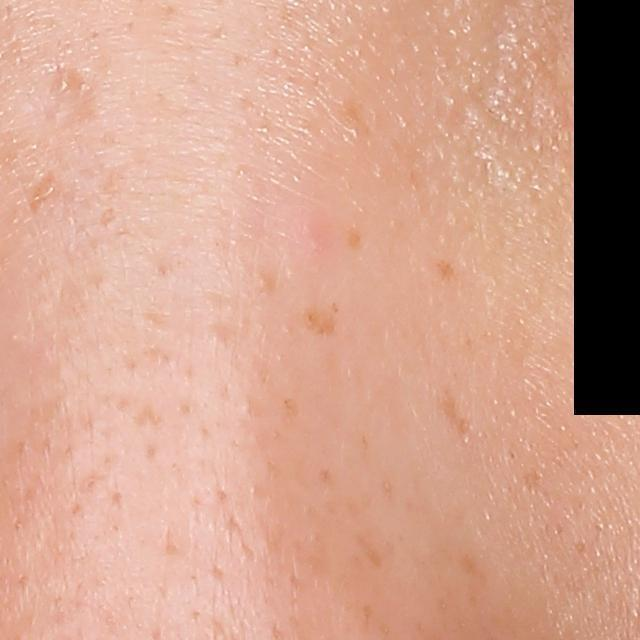melasma: (427, 378, 482, 449), (25, 166, 67, 218), (298, 304, 354, 342), (343, 222, 367, 253), (435, 258, 458, 280)
